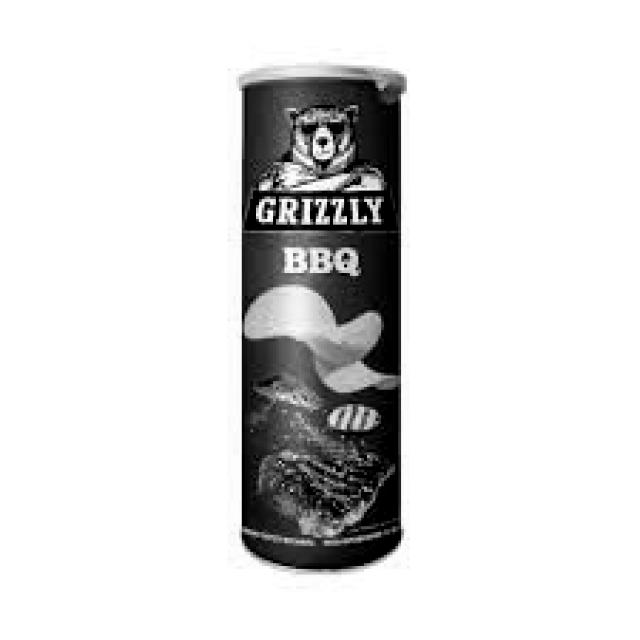grizzly: (252, 99, 394, 231)
